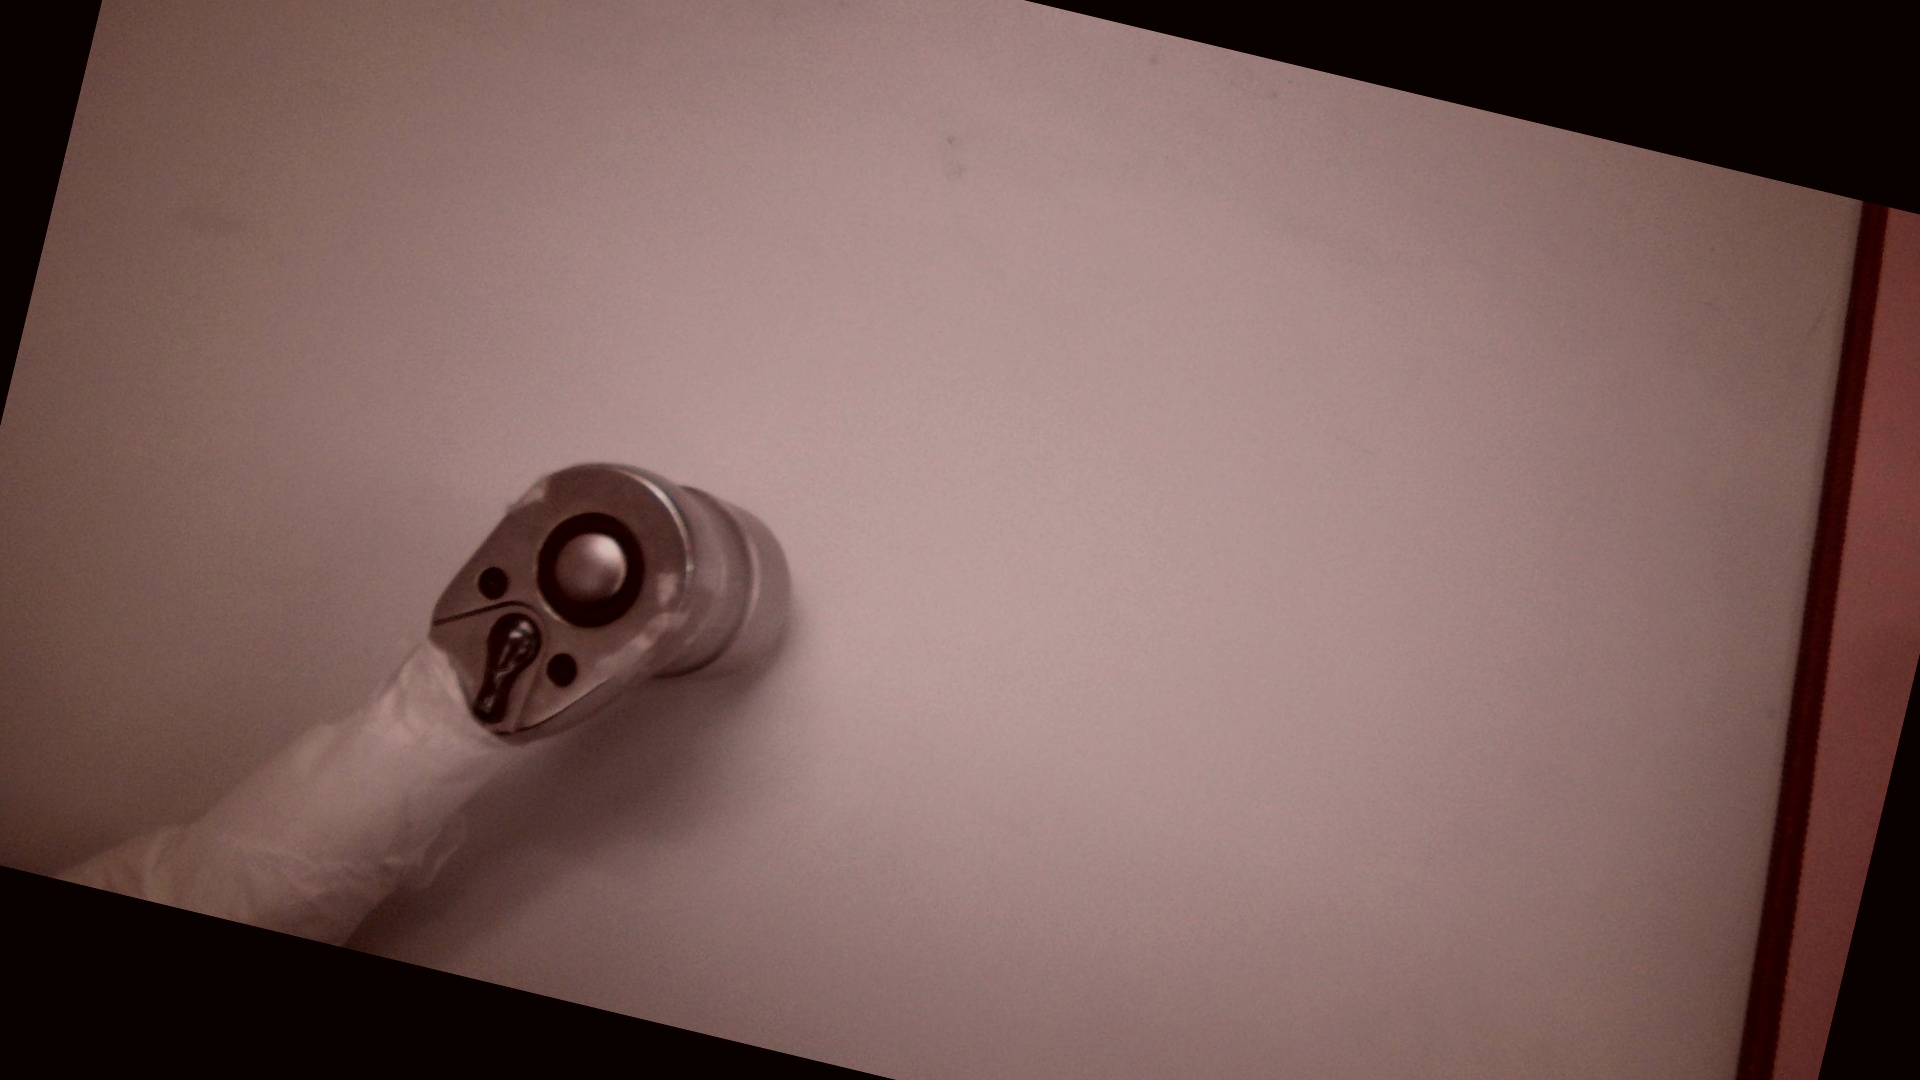wrench: (520, 496, 651, 640)
